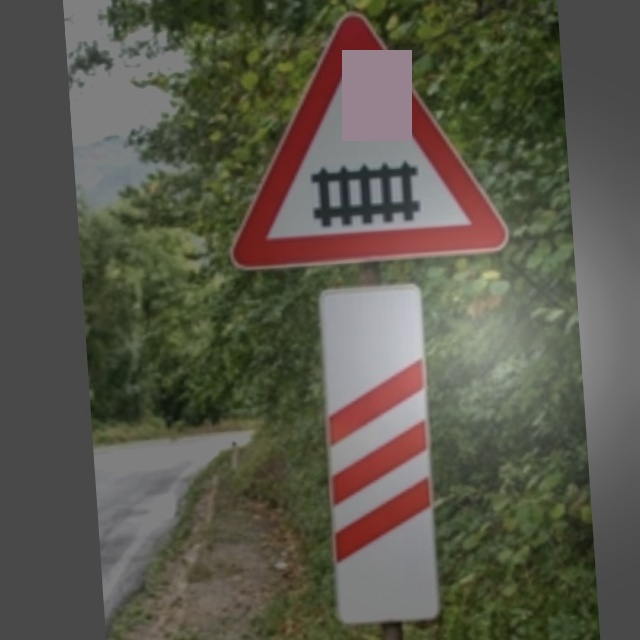Guarded_Level_Crossing: (227, 4, 495, 269)
